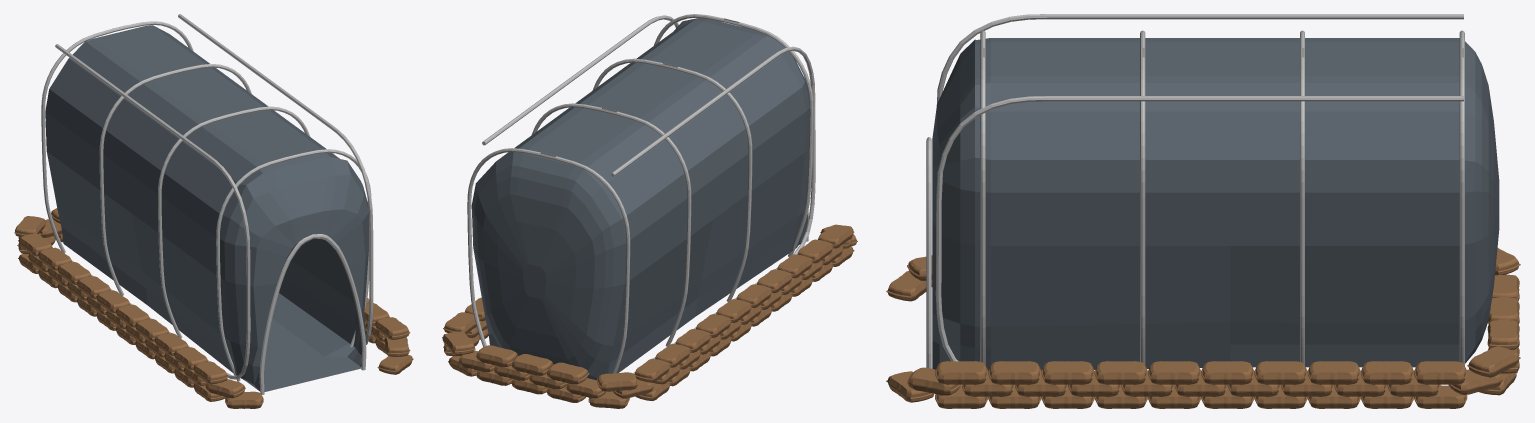
File: commandtentlvl0.dae
The picture shows the model from 3 angles, left to right: view 1: azimuth 30°, elevation 25°; view 2: azimuth 150°, elevation 25°; view 3: azimuth 270°, elevation 25°; orthographic projection. The views are drawn at different scales.
Parts seen in each view (by area): view 1: Cylinder_004; view 2: Cylinder_004; view 3: Cylinder_004.
Boxes of the visible parts, bbox=[...] form: Cylinder_004: bbox=[14, 14, 413, 408]; Cylinder_004: bbox=[442, 14, 857, 408]; Cylinder_004: bbox=[886, 14, 1520, 408].
Size of the model in its own units: 4.8 by 9.53 by 4.83.
